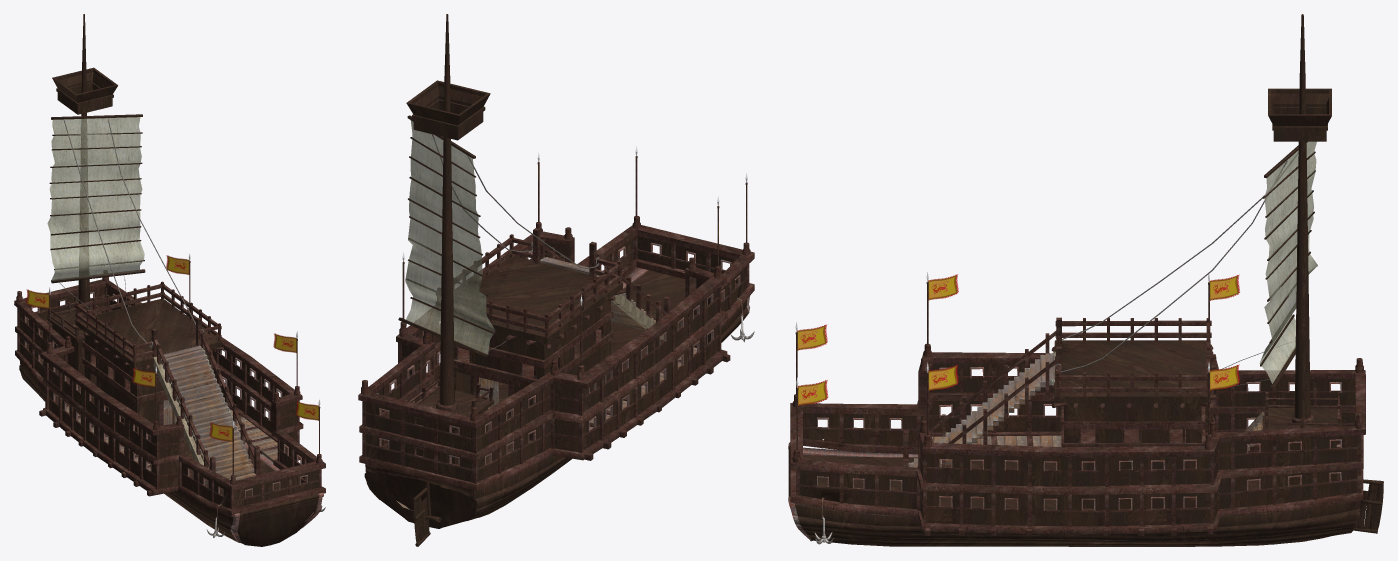
The model's file is shipModelData-threeKingdoms.glb.
The picture shows the model from 3 angles, left to right: view 1: azimuth 30°, elevation 25°; view 2: azimuth 150°, elevation 25°; view 3: azimuth 270°, elevation 25°; orthographic projection. The views are drawn at different scales.
Visible parts, largest first — view 1: yy3d-gudaifachuanw-035, yy3d-gudaifachuanw-037, yy3d-gudaifachuanw-078, yy3d-gudaifachuanw-041, yy3d-gudaifachuanw-084, yy3d-gudaifachuanw-075, yy3d-gudaifachuanw-079, yy3d-gudaifachuanw-040; view 2: yy3d-gudaifachuanw-035, yy3d-gudaifachuanw-037, yy3d-gudaifachuanw-078, yy3d-gudaifachuanw-075, yy3d-gudaifachuanw-041, yy3d-gudaifachuanw-040, yy3d-gudaifachuanw-079; view 3: yy3d-gudaifachuanw-035, yy3d-gudaifachuanw-037, yy3d-gudaifachuanw-078, yy3d-gudaifachuanw-041, yy3d-gudaifachuanw-084, yy3d-gudaifachuanw-075, yy3d-gudaifachuanw-079.
Boxes of the visible parts, <box> form: yy3d-gudaifachuanw-035: <box>19,14,318,546</box>; yy3d-gudaifachuanw-037: <box>14,261,325,515</box>; yy3d-gudaifachuanw-078: <box>47,117,144,280</box>; yy3d-gudaifachuanw-041: <box>66,345,277,518</box>; yy3d-gudaifachuanw-084: <box>26,253,320,441</box>; yy3d-gudaifachuanw-075: <box>24,292,323,542</box>; yy3d-gudaifachuanw-079: <box>58,119,203,348</box>; yy3d-gudaifachuanw-040: <box>153,356,207,484</box>; yy3d-gudaifachuanw-035: <box>364,14,747,546</box>; yy3d-gudaifachuanw-037: <box>358,156,754,490</box>; yy3d-gudaifachuanw-078: <box>405,120,495,354</box>; yy3d-gudaifachuanw-075: <box>376,242,749,466</box>; yy3d-gudaifachuanw-041: <box>396,257,742,510</box>; yy3d-gudaifachuanw-040: <box>596,275,663,339</box>; yy3d-gudaifachuanw-079: <box>432,134,599,350</box>; yy3d-gudaifachuanw-035: <box>788,14,1383,546</box>; yy3d-gudaifachuanw-037: <box>790,282,1365,535</box>; yy3d-gudaifachuanw-078: <box>1259,141,1317,383</box>; yy3d-gudaifachuanw-041: <box>821,353,1264,518</box>; yy3d-gudaifachuanw-084: <box>795,272,1239,405</box>; yy3d-gudaifachuanw-075: <box>788,366,1341,540</box>; yy3d-gudaifachuanw-079: <box>1055,153,1297,385</box>.
Size of the model in its own units: 19.78 by 46.65 by 48.41.
Materials: 10 (9 with a texture image).
